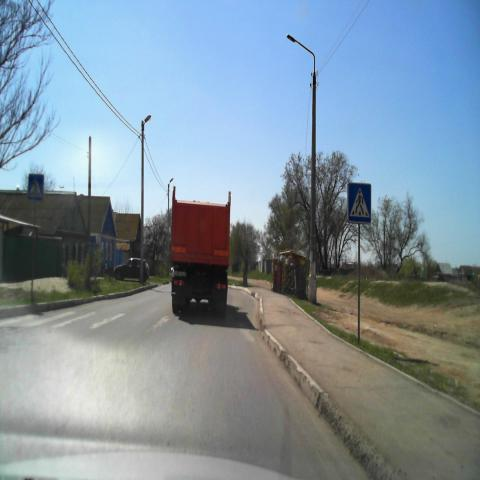5_19_1: (347, 182, 372, 224), (28, 172, 44, 202)
